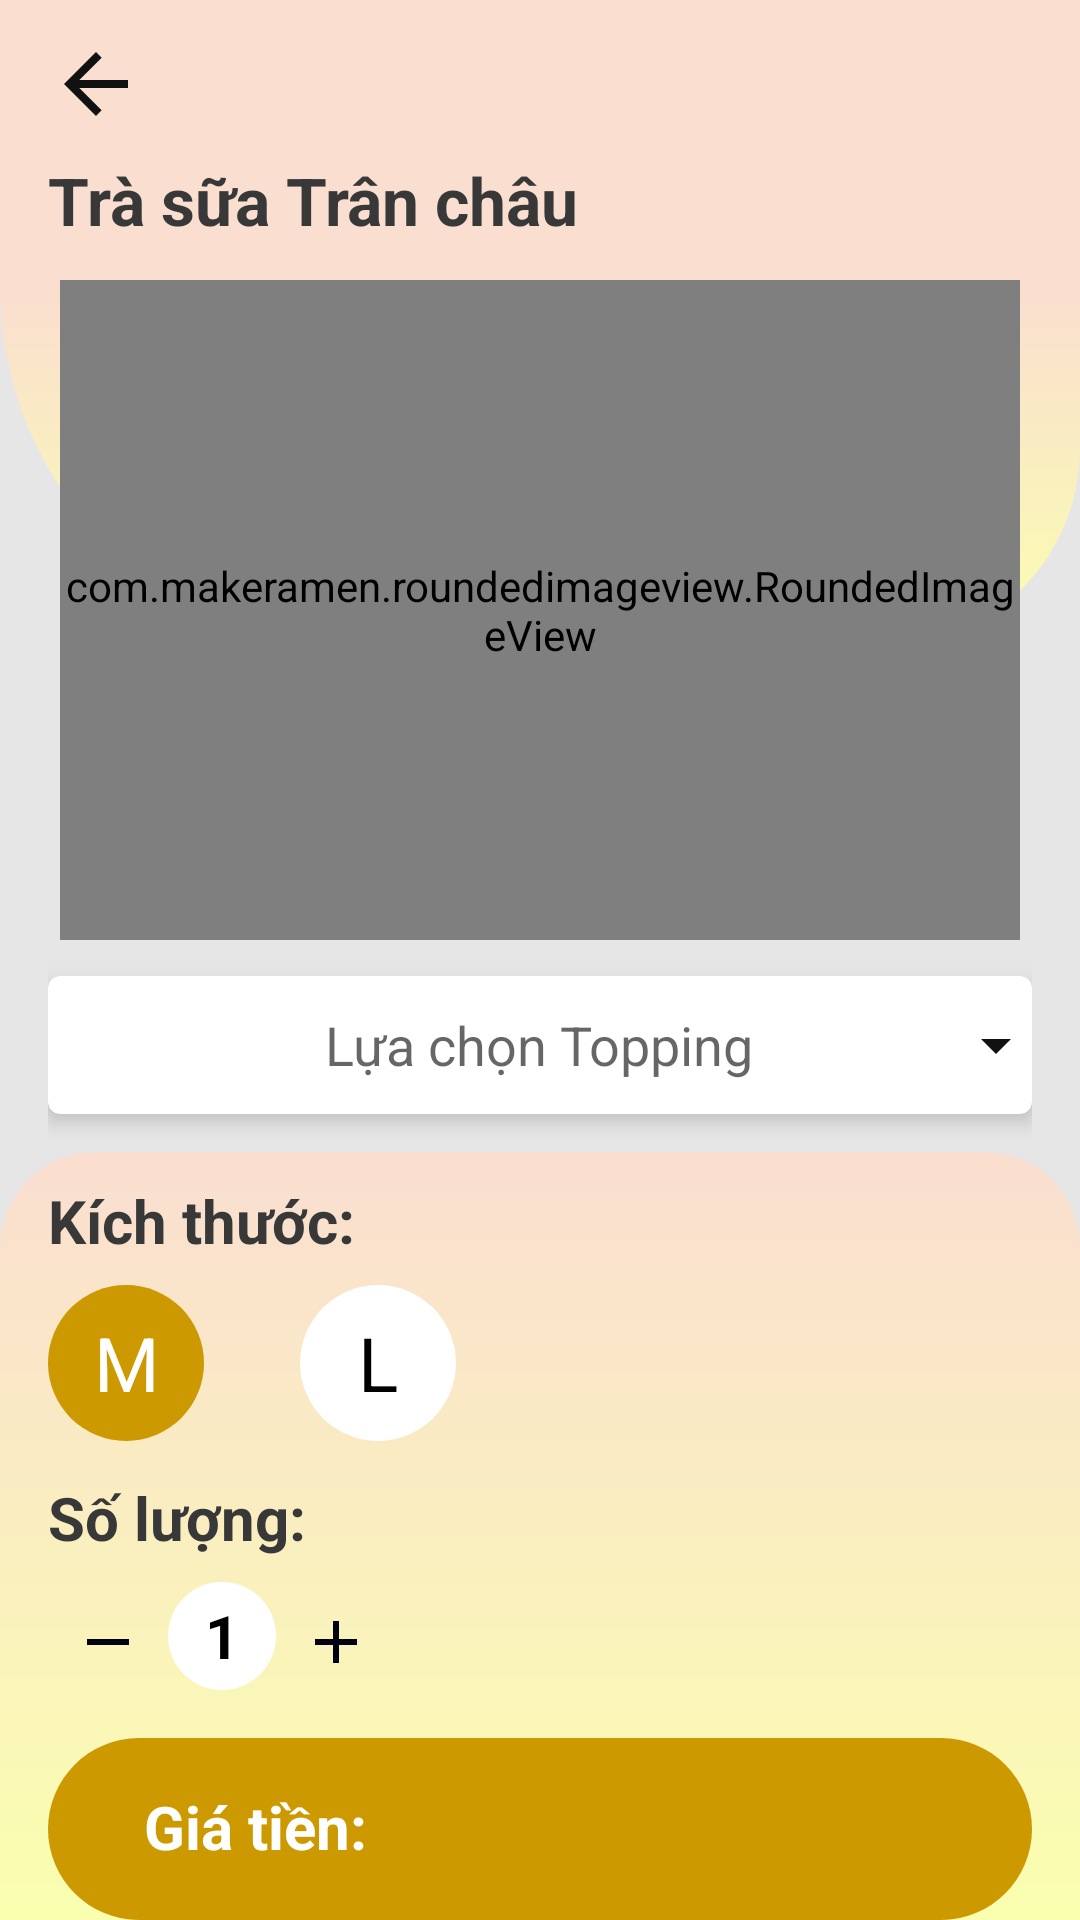

Point at icon controls on the screen. Image size 1080 x 1920, points as (x=x, y=y).
add: (x=336, y=1642)
arrow back: (x=96, y=84)
arrow drop down: (x=996, y=1046)
